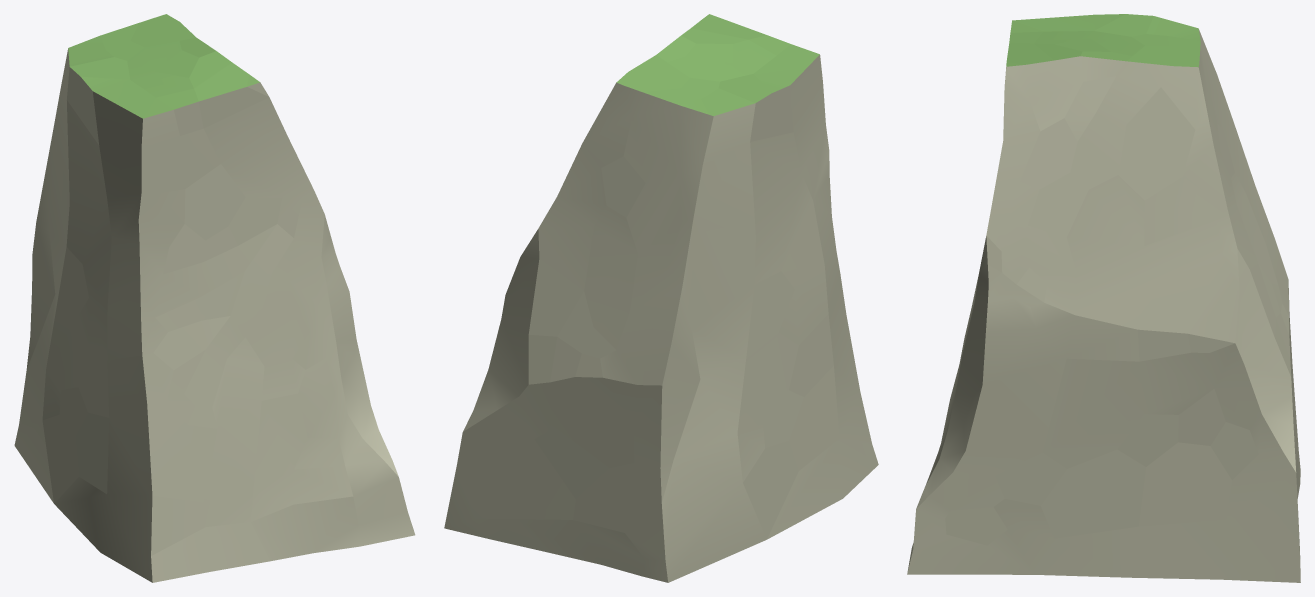
Rendered from island_rocky_C_mini.fbx.
3 views of the same model, side by side, from view 1: azimuth 30°, elevation 25°; view 2: azimuth 150°, elevation 25°; view 3: azimuth 270°, elevation 25° (orthographic). The views are drawn at different scales.
Visible parts, largest first — view 1: island_rocky_C_mini; view 2: island_rocky_C_mini; view 3: island_rocky_C_mini.
Boxes of the visible parts, x1,y1,x2,y2 form: island_rocky_C_mini: (14, 14, 415, 582); island_rocky_C_mini: (444, 14, 878, 582); island_rocky_C_mini: (907, 14, 1300, 582).
Bounding box in the file's own units: 951 × 1509 × 1168.
